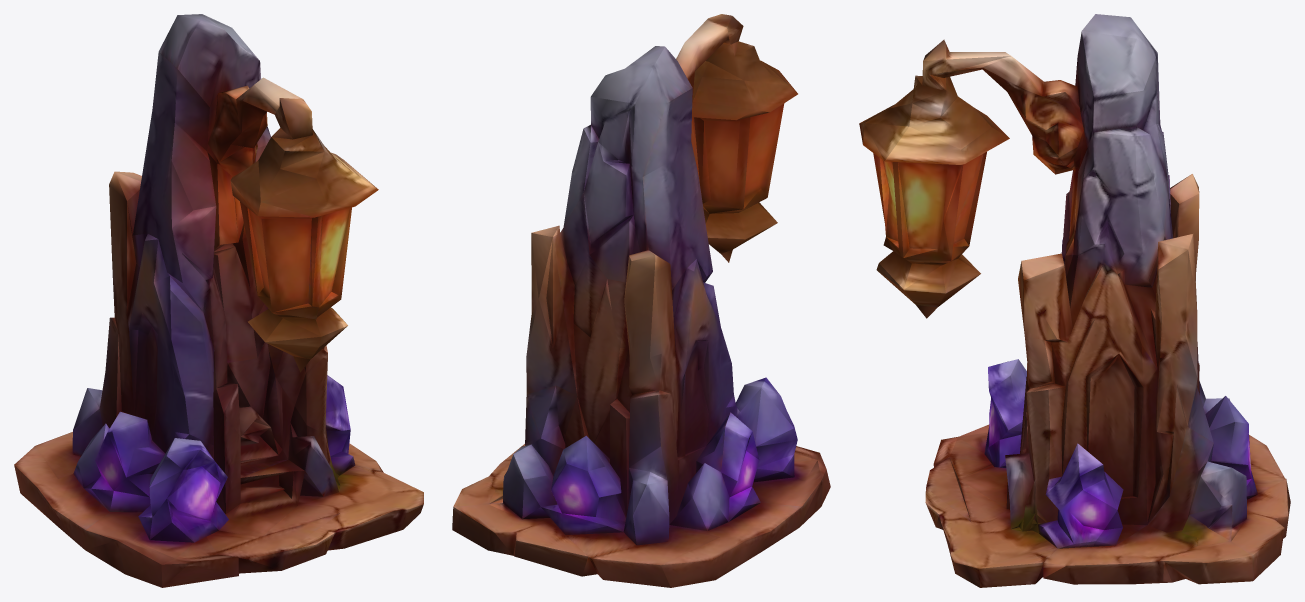
Rendered from m2CaveLanternPost.glb.
The picture shows the model from 3 angles, left to right: view 1: azimuth 30°, elevation 25°; view 2: azimuth 150°, elevation 25°; view 3: azimuth 270°, elevation 25°; orthographic projection. The views are drawn at different scales.
Visible parts, largest first — view 1: model; view 2: model; view 3: model.
Part boxes in pixels (x1,y1,x2,y2): model: (14,14,423,587); model: (452,14,830,587); model: (859,14,1290,587).
Bounding box in the file's own units: 1.2 × 1.91 × 1.5.
1 material, 1 textured.
